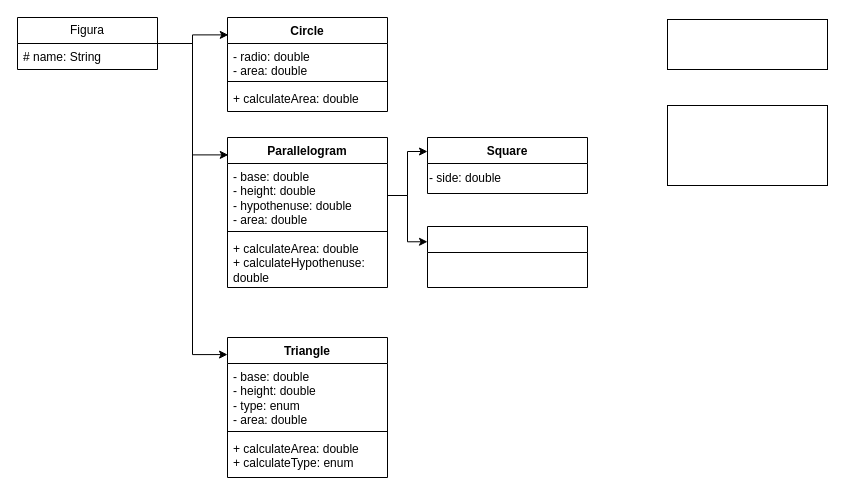
The diagram is 845 pixels wide and 498 high, and some of its shapes have lost their labels. Each missing label, with the centre of its shape:
Rectangle: the point at 507,257
« enumParallelogram » square rectangle: the point at 747,44
« enumTriangle » equilateral isosceles scalene: the point at 747,145
